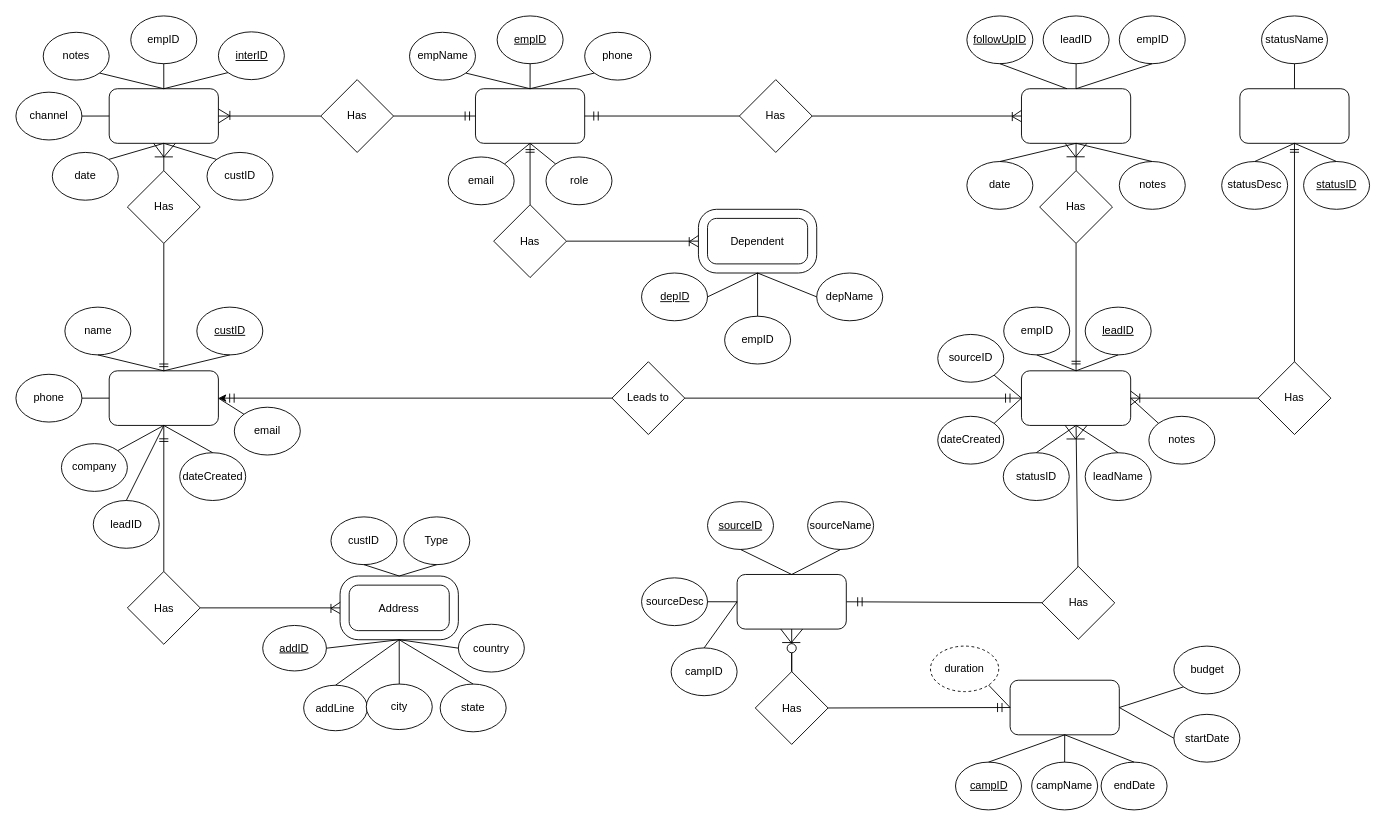
Some shapes in this 1386 by 826 pixel diagram are drawn without their labels. Each missing label, with the box of its shape:
Campaign: (1009, 679, 1119, 735)
Customer: (108, 370, 218, 425)
Employee: (475, 88, 585, 143)
FollowUp: (1021, 88, 1131, 143)
Interaction: (108, 88, 218, 143)
Lead: (1021, 370, 1131, 425)
Source: (736, 574, 846, 629)
Status: (1239, 88, 1349, 143)
